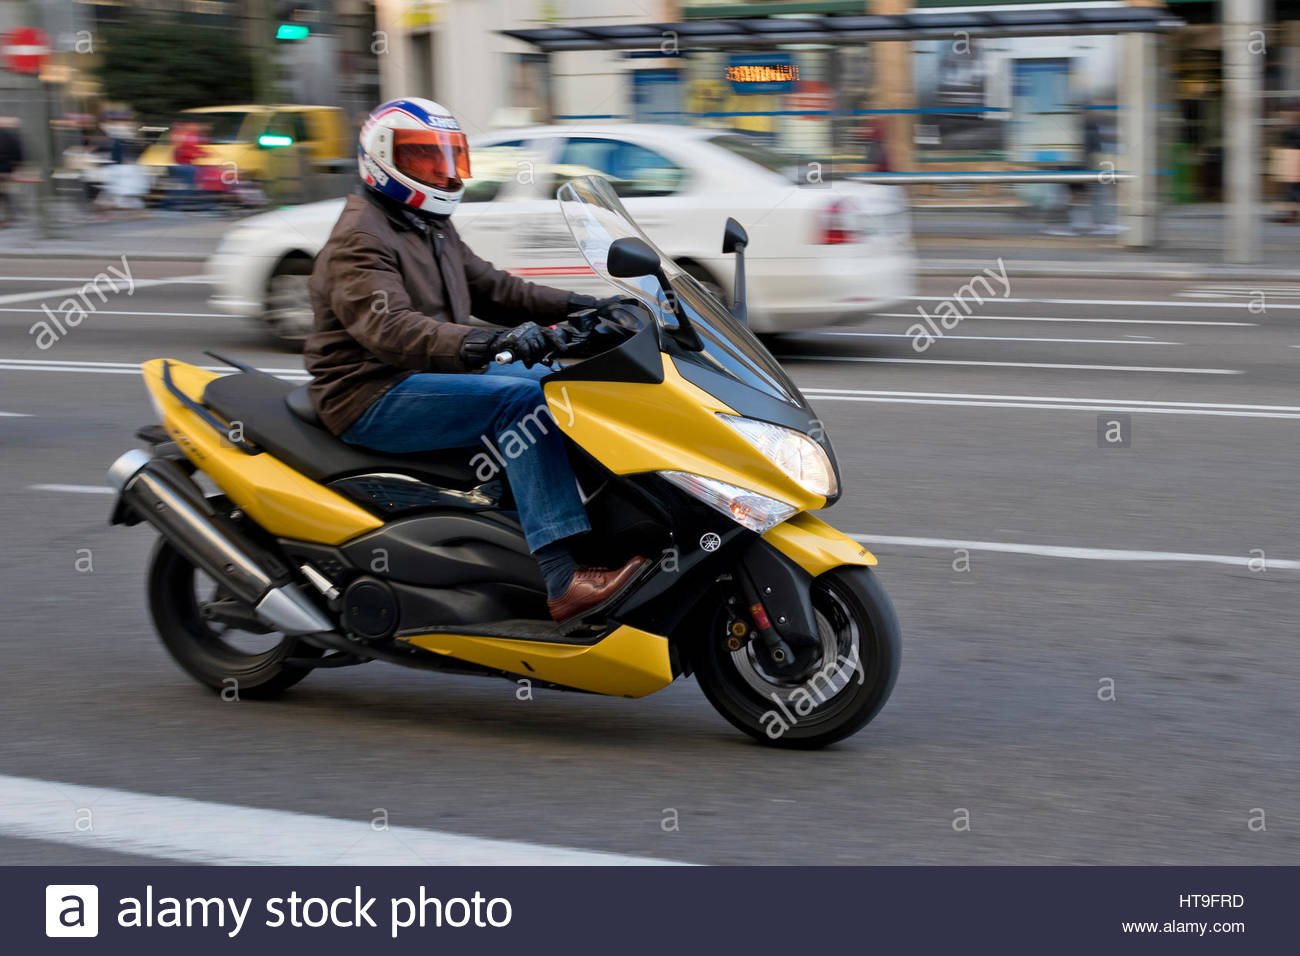helmet: (321, 82, 491, 238)
